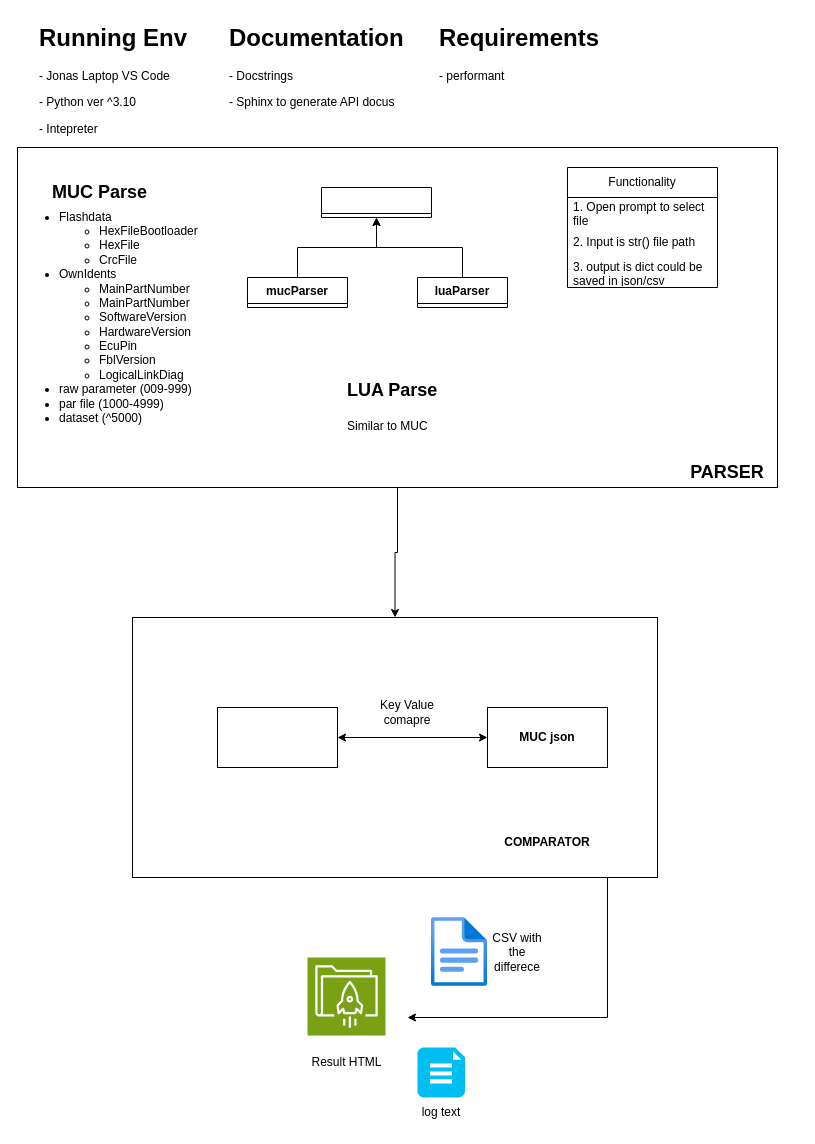
Image size: 815x1144. Some labels were removed from this diagram. Each missing label, with the centre of its shape:
base_parser: the point at 376,202
LUA json: the point at 277,737
